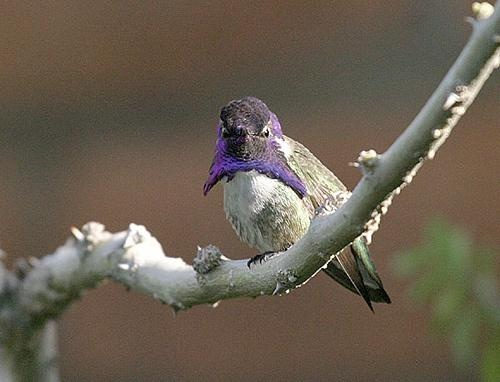bird: (206, 98, 393, 310)
